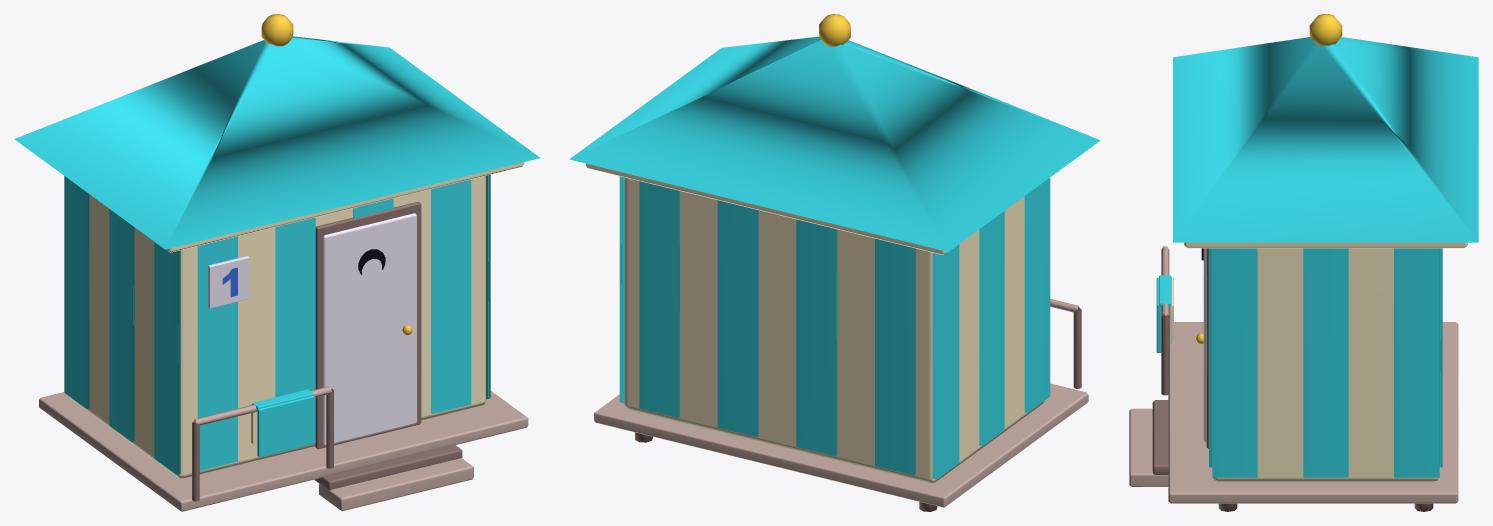
File: beach_hut.glb
The picture shows the model from 3 angles, left to right: view 1: azimuth 30°, elevation 25°; view 2: azimuth 150°, elevation 25°; view 3: azimuth 270°, elevation 25°; orthographic projection.
Visible parts, largest first — view 1: Hut; view 2: Hut; view 3: Hut.
Part boxes in pixels (bbox=[...]): Hut: bbox=[14, 14, 539, 511]; Hut: bbox=[569, 14, 1100, 511]; Hut: bbox=[1129, 14, 1478, 511].
Size of the model in its own units: 2.8 by 2.98 by 2.23.
